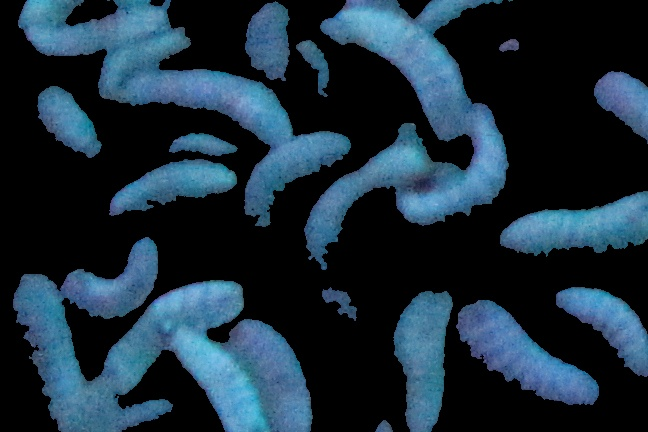larvae: (336, 8, 469, 134), (454, 295, 602, 406), (104, 281, 245, 390), (8, 271, 96, 431), (302, 144, 419, 261), (399, 110, 508, 225), (116, 72, 291, 142), (501, 195, 648, 263), (393, 282, 455, 432), (175, 334, 268, 432), (554, 280, 648, 376), (236, 318, 313, 432), (246, 131, 347, 211), (59, 237, 159, 315), (32, 6, 171, 57), (111, 163, 238, 214), (99, 29, 189, 95), (238, 1, 297, 93), (589, 63, 648, 152), (34, 87, 101, 157), (160, 134, 242, 157)
